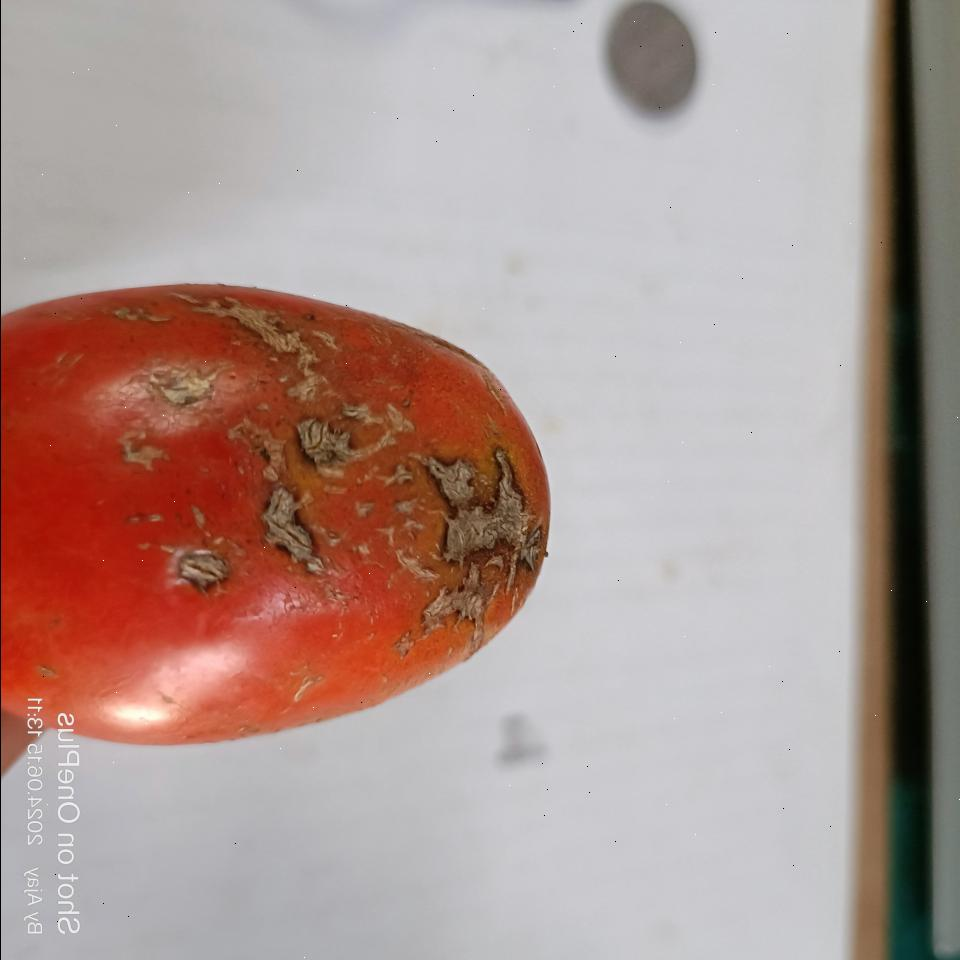Bacterial_Spot: (206, 304, 404, 576), (415, 436, 549, 646), (176, 540, 234, 605)
